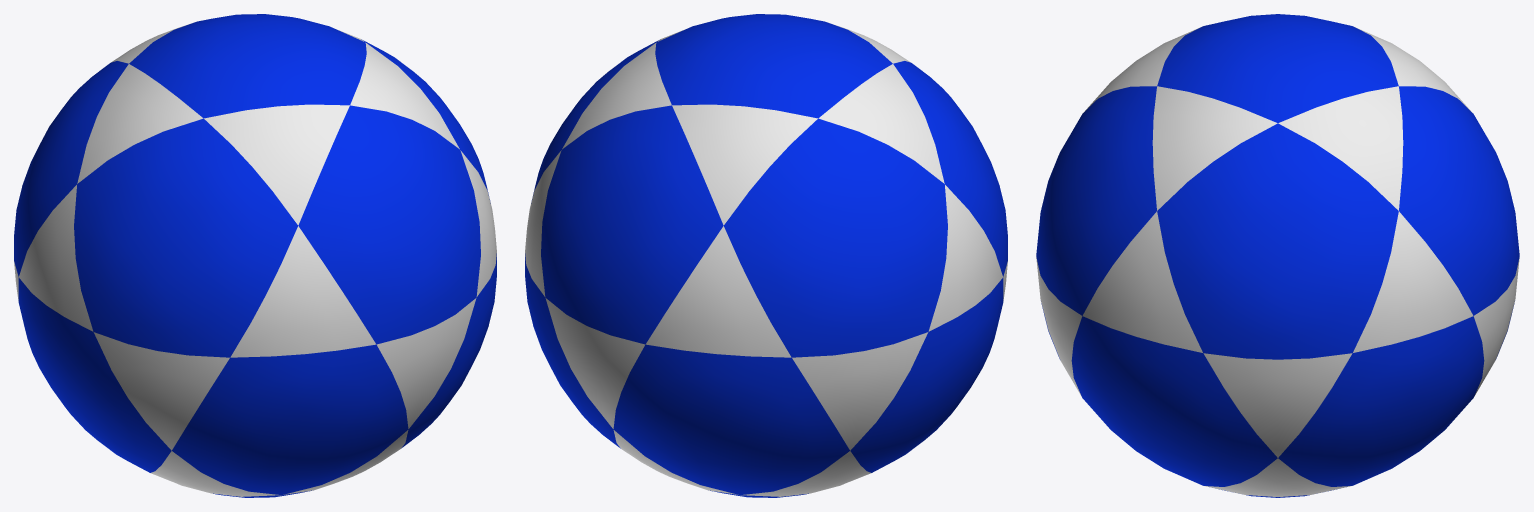
The model's file is football.gltf.
3 renders of one model, left to right at view 1: azimuth 30°, elevation 25°; view 2: azimuth 150°, elevation 25°; view 3: azimuth 270°, elevation 25°, orthographic.
Visible parts, largest first — view 1: Assets_SM_Football; view 2: Assets_SM_Football; view 3: Assets_SM_Football.
Part boxes in pixels (box(x1,y1,x2,y2)): Assets_SM_Football: box(14, 14, 496, 497); Assets_SM_Football: box(525, 14, 1007, 497); Assets_SM_Football: box(1036, 14, 1519, 497).
Size of the model in its own units: 0.2032 by 0.2047 by 0.2035.
